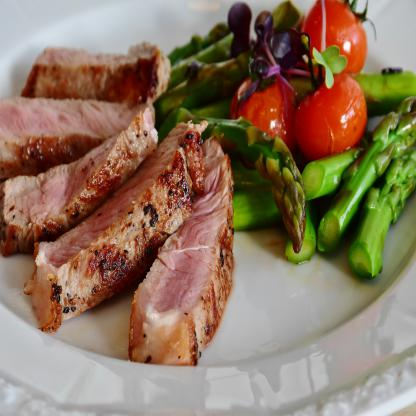Carne: (24, 118, 209, 334), (129, 128, 235, 358), (1, 106, 156, 255), (0, 92, 151, 168), (22, 45, 165, 99)
